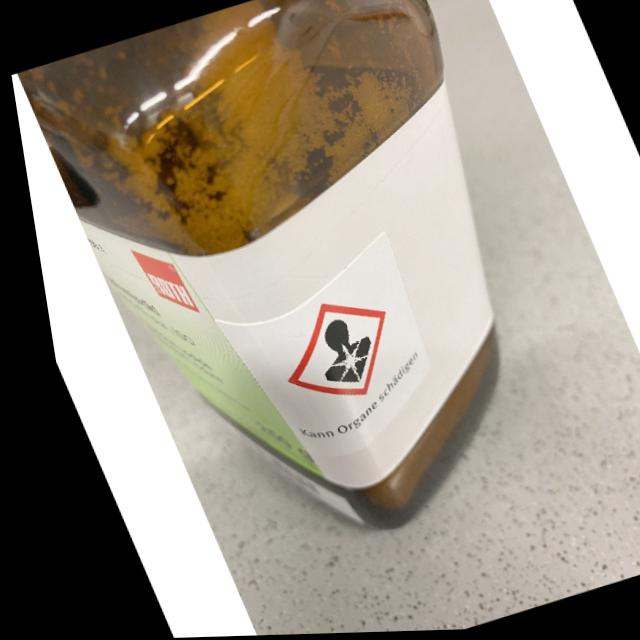serious health hazard: (292, 314, 375, 394)
